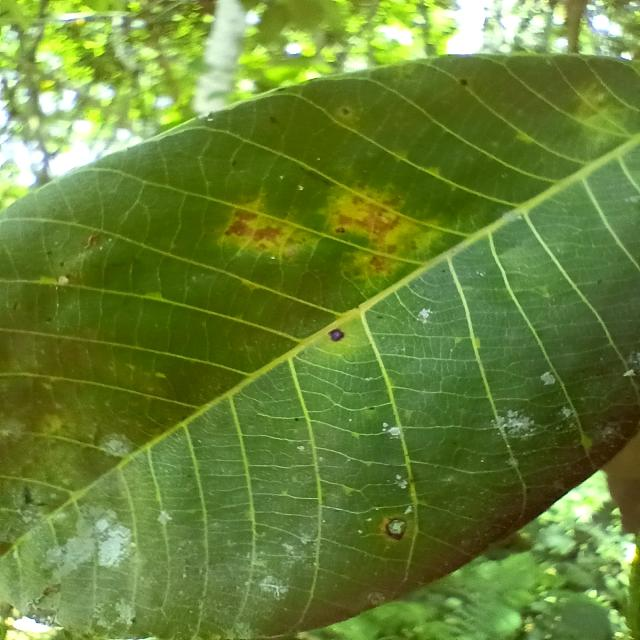Colletotrichum: (328, 328, 344, 342)
